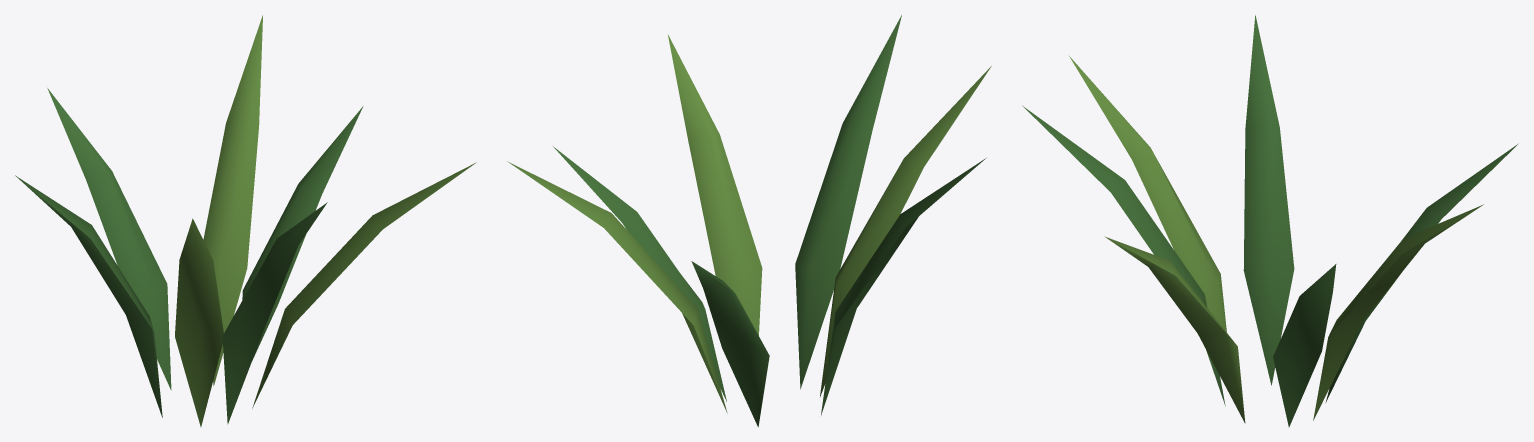
The model's file is reeds.glb.
3 views of the same model, side by side, from view 1: azimuth 30°, elevation 25°; view 2: azimuth 150°, elevation 25°; view 3: azimuth 270°, elevation 25° (orthographic). The views are drawn at different scales.
Parts seen in each view (by area): view 1: reeds; view 2: reeds; view 3: reeds.
Part boxes in pixels (x1,y1,x2,y2): reeds: [15, 15, 476, 426]; reeds: [507, 15, 991, 427]; reeds: [1022, 15, 1518, 427].
Size of the model in its own units: 0.9146 by 0.6658 by 0.9941.
